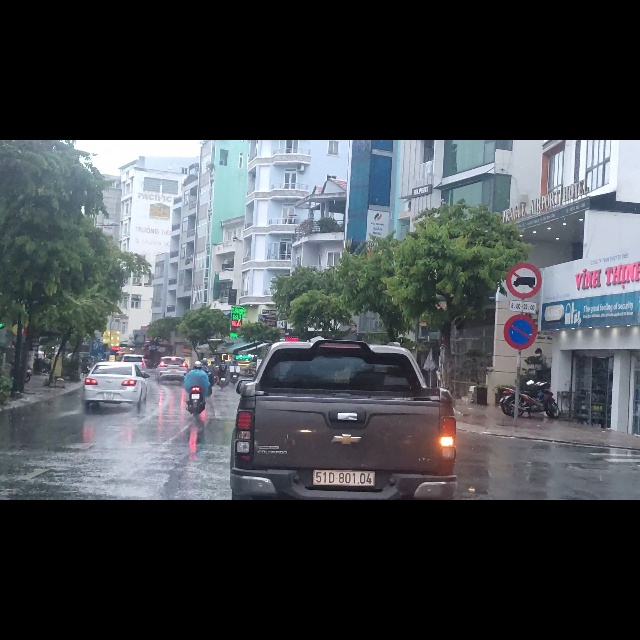bien_cam: (503, 308, 537, 373), (507, 221, 541, 281)
